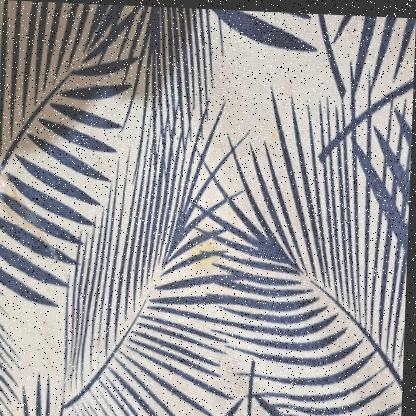spot: (214, 342, 253, 402), (183, 225, 223, 276), (267, 127, 279, 144)
